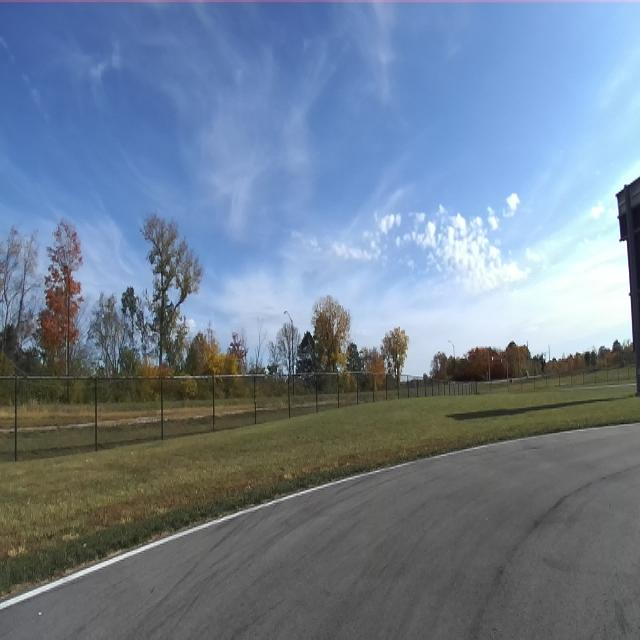white-line: (0, 423, 640, 612)
